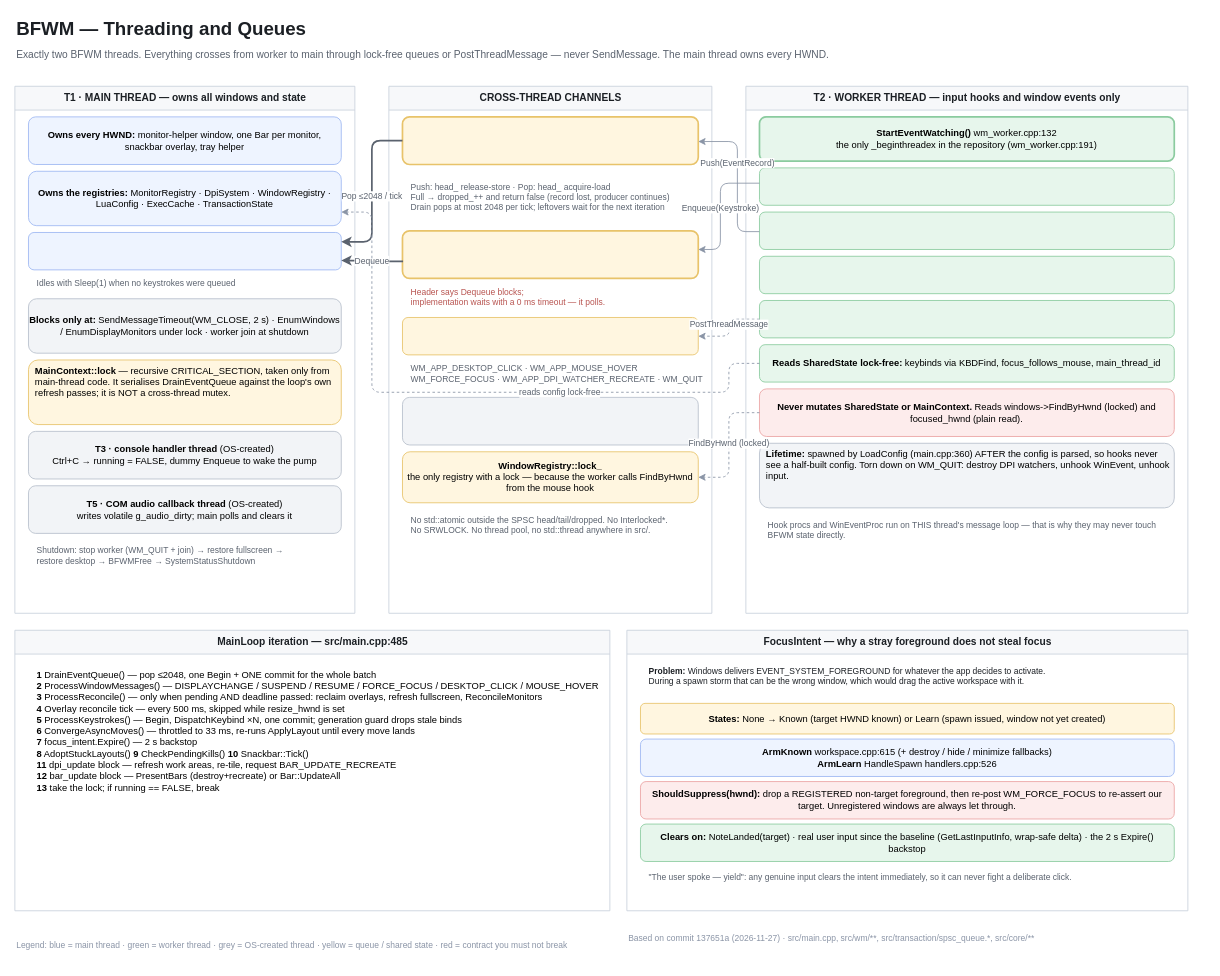
Image size: 1220x976. Some labels were removed from this diagram. Here are the shapes that lost their labels. From the top down, the centre of each, then its label:
At (x=550, y=140): "SpscQueue — window/DPI events 2048 slots · EventRecord POD · not a template".
At (x=966, y=186): "ComInitGuard → WH_KEYBOARD_LL + WH_MOUSE_LL hooks".
At (x=966, y=230): "SetWinEventHook ×4 — OUTOFCONTEXT + SKIPOWNPROCESS (events.cpp:813-852)".
At (x=184, y=251): "Non-blocking pump: PeekMessage(PM_REMOVE) — never GetMessage".
At (x=550, y=254): "KeystrokeQueue — input CRITICAL_SECTION + semaphore, capacity 8".
At (x=966, y=274): "One hidden DPI watcher HWND per monitor (created via posted messages)".
At (x=550, y=336): "PostThreadMessage — the only main→worker and hook→main channel".
At (x=966, y=319): "Blocking GetMessage loop ; thread messages handled inline (DPI watcher recreate)".
At (x=550, y=421): "volatile flags (not atomics) setup_in_progress · g_audio_dirty · running".
